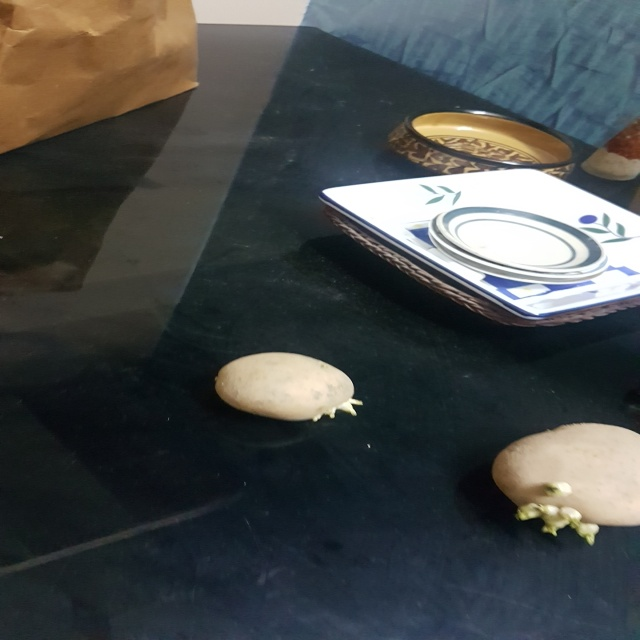potato: (492, 420, 640, 549), (214, 347, 365, 431)
